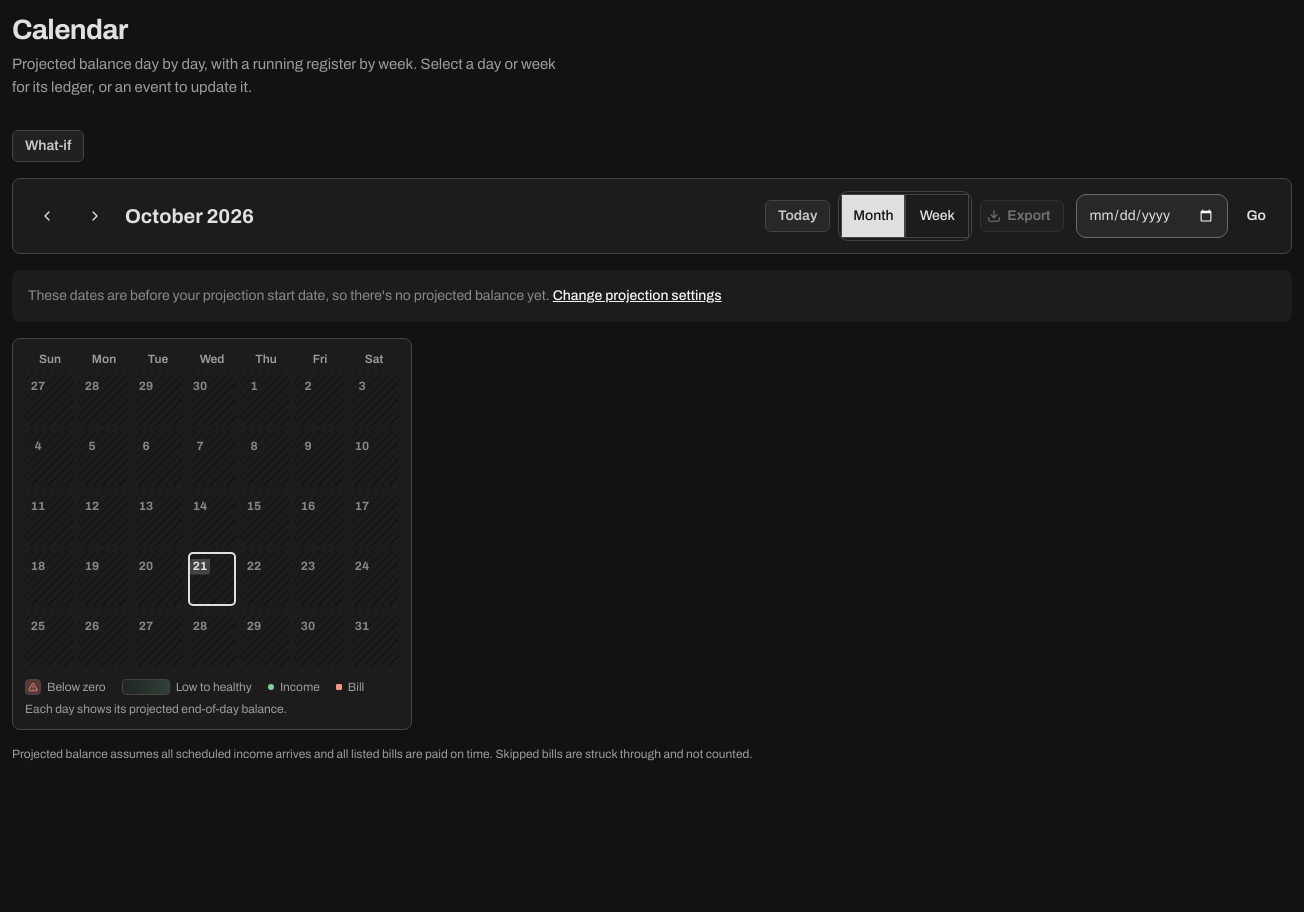
Test: calendar heatmap and register › collapses weeks before the projection start into one note and keeps empty weeks as a one-line note
Check: the text "before your projection start date, so there's no projected balance" is shown, box [28,288,550,303]
# Next month mixes unprojected weeks with the partial first projected week, so the note is useful there.
Click the button with test id "calendar-next". click: click(95, 216)
box: [73,194,117,238]
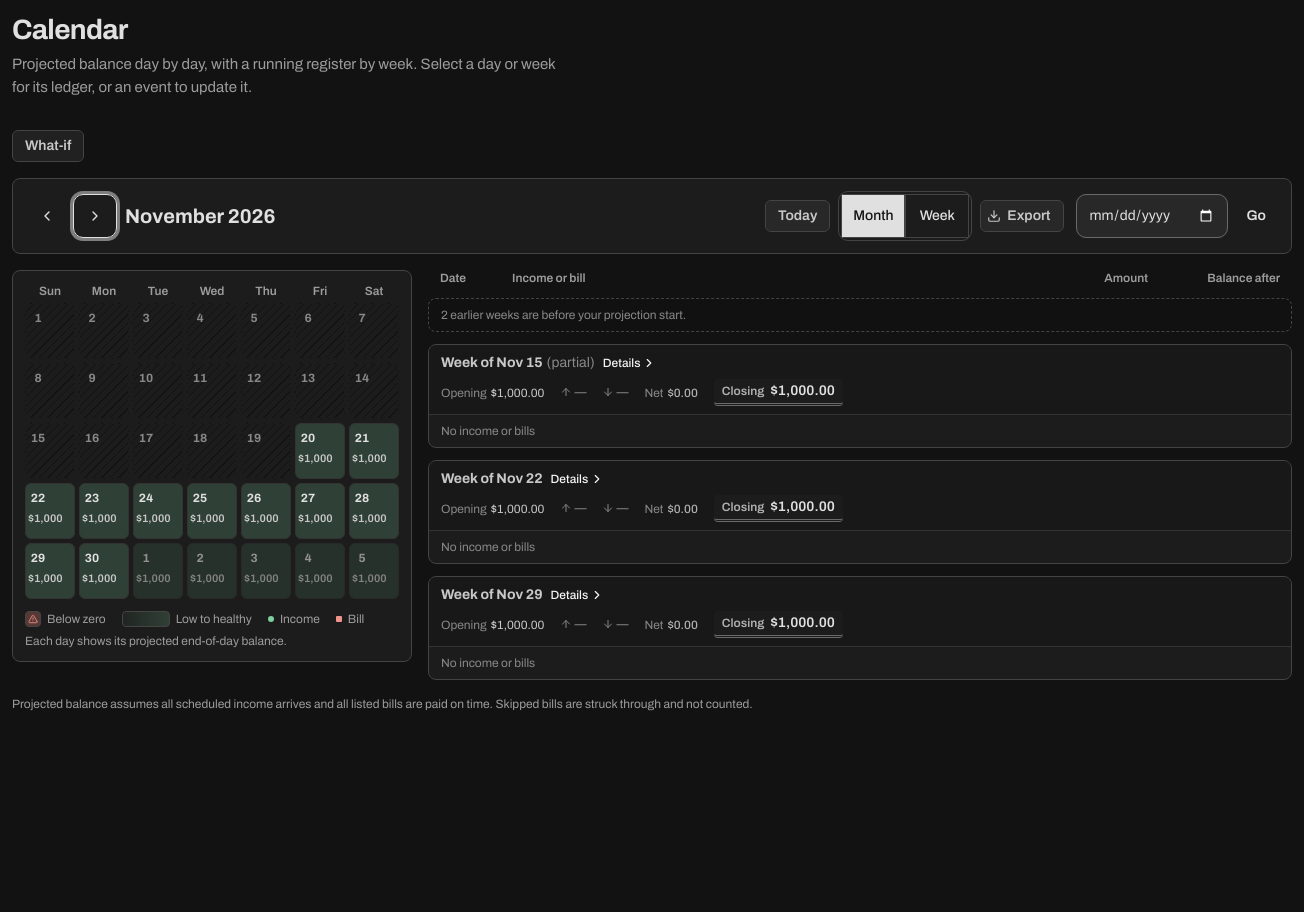
Check: the element with test id "calendar-register" shows "No income or bills", box [441,424,535,438]
Check: the element with test id "calendar-register" shows "2 earlier weeks are before your projection start.", box [441,308,686,322]
